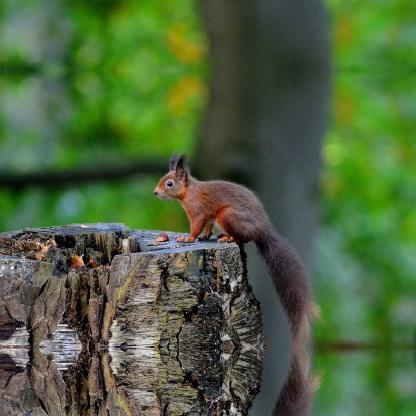Squirrel: (152, 147, 322, 345), (152, 347, 322, 415)
